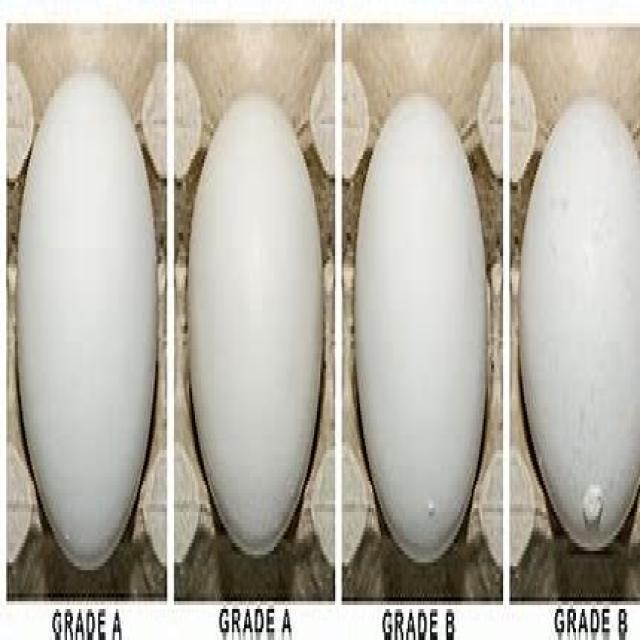Calcium Deposit Egg: (521, 78, 640, 616)
White Egg: (15, 69, 160, 614), (184, 67, 334, 589), (358, 76, 504, 599)
